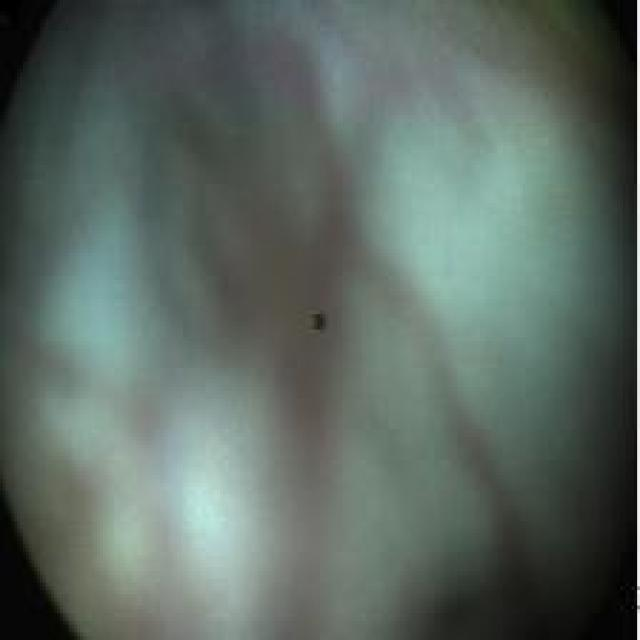blur: (7, 10, 631, 628)
color misalignment: (310, 305, 327, 337)
